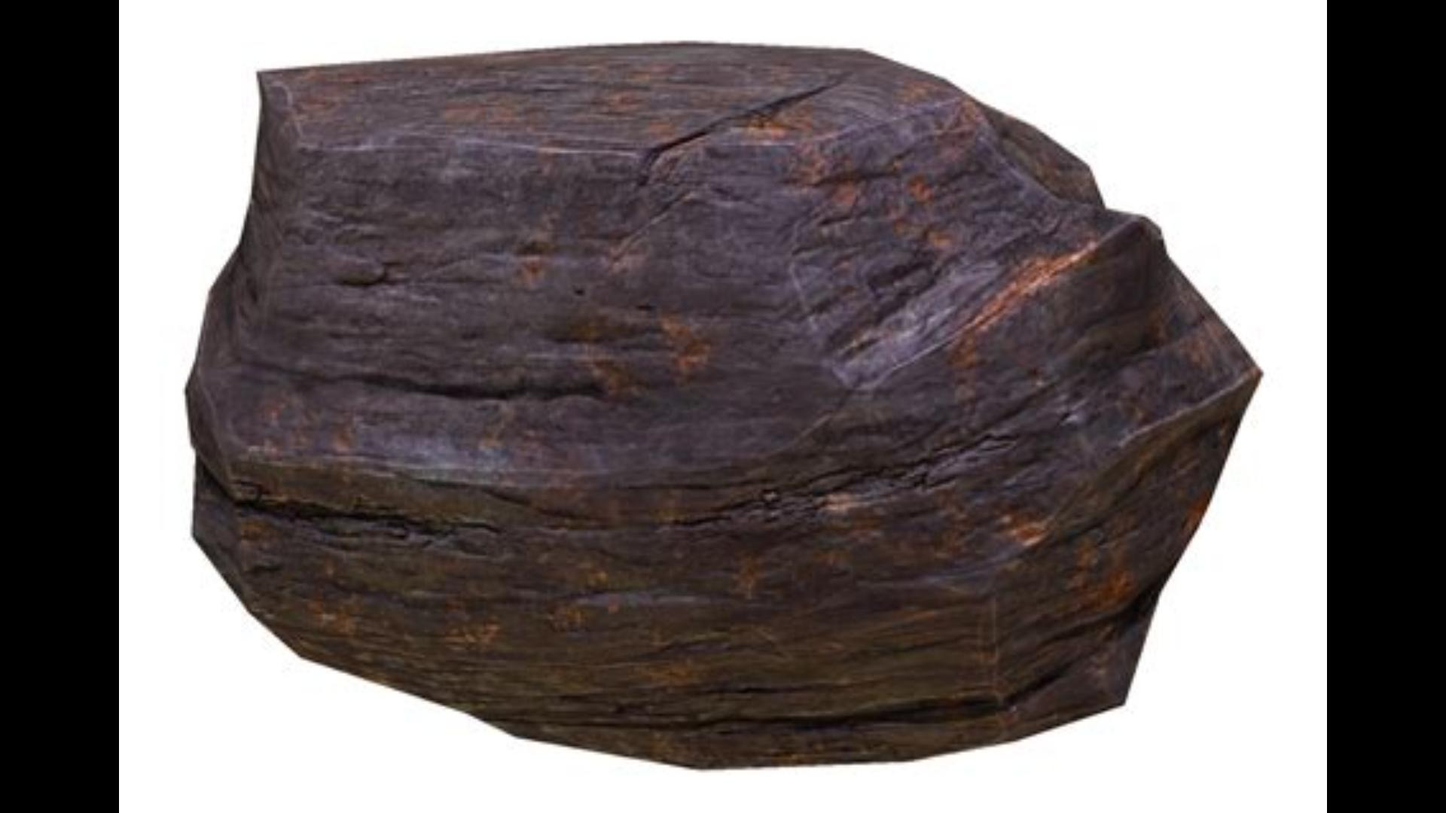rock: (188, 51, 1259, 765)
